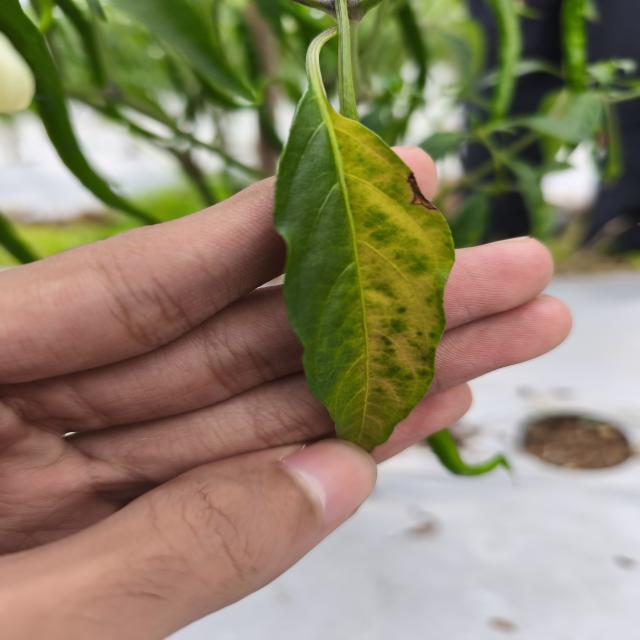Virus Kuning: (270, 77, 455, 454)
